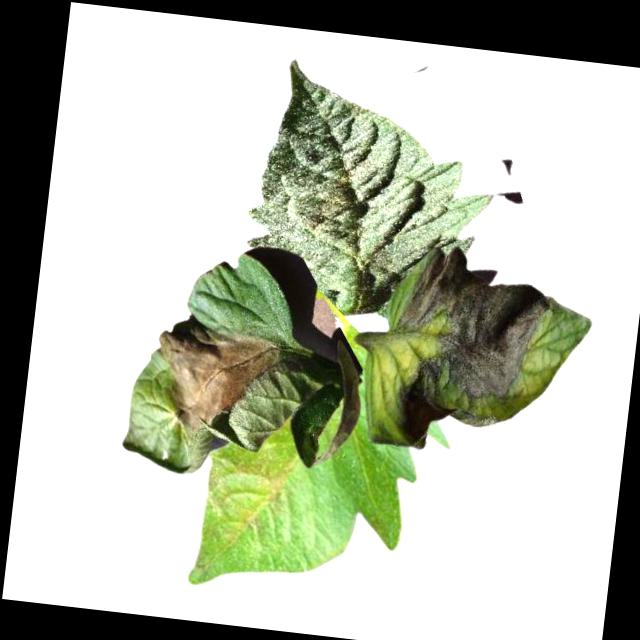Late_blight: (382, 242, 559, 461), (147, 310, 290, 444), (199, 428, 305, 553)
healthy: (237, 55, 504, 330)
